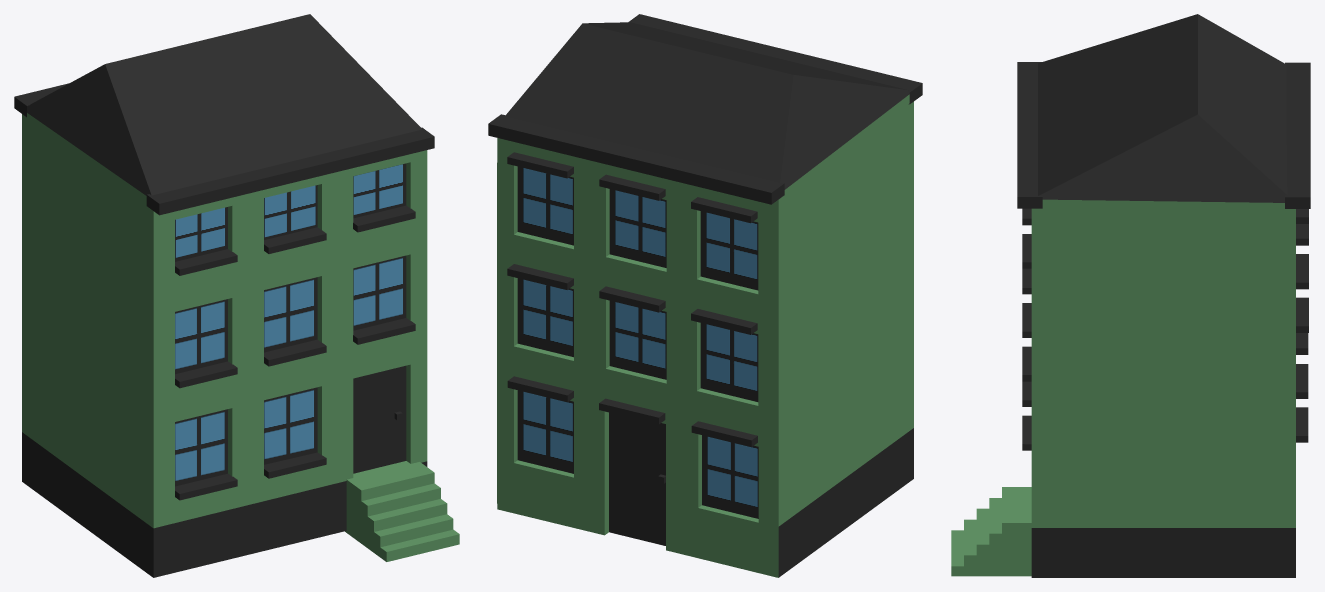
File: NormalGreen.obj
3 views of the same model, side by side, from view 1: azimuth 30°, elevation 25°; view 2: azimuth 150°, elevation 25°; view 3: azimuth 270°, elevation 25° (orthographic). The views are drawn at different scales.
Parts seen in each view (by area): view 1: ZwyklyZwyklyZielony.001; view 2: ZwyklyZwyklyZielony.001; view 3: ZwyklyZwyklyZielony.001.
Boxes of the visible parts, left/top/right/bottom form: ZwyklyZwyklyZielony.001: left=14, top=14, right=459, bottom=577; ZwyklyZwyklyZielony.001: left=488, top=14, right=922, bottom=577; ZwyklyZwyklyZielony.001: left=951, top=14, right=1310, bottom=577.
Size of the model in its own units: 6.06 by 9.37 by 6.79.
